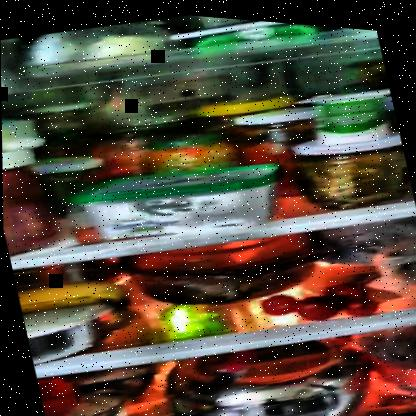banana: (16, 266, 139, 325)
cheese: (73, 144, 276, 255)
cream_cheese: (174, 11, 361, 66)
tomato: (261, 267, 384, 330)
yoghurt: (300, 73, 398, 147)
